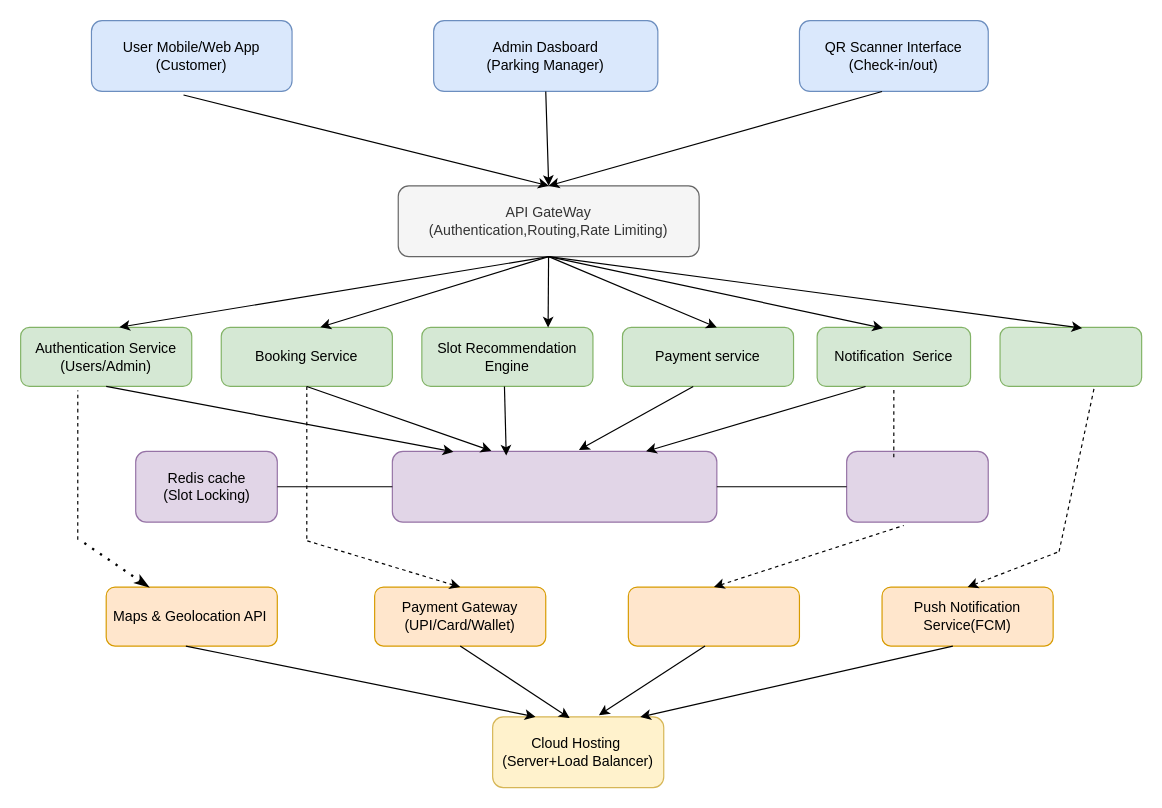
This 1162x808 diagram has some shape labels left out. Each missing label, with the centre of its shape:
"File/ Log Storage" belongs at (916,486).
"Primary Database (Users,Vehicles,Bookings,Slots,payments)" belongs at (554,486).
"Reporting& Analytics service" belongs at (1070,356).
"SMS/Email Provider" belongs at (713,616).
